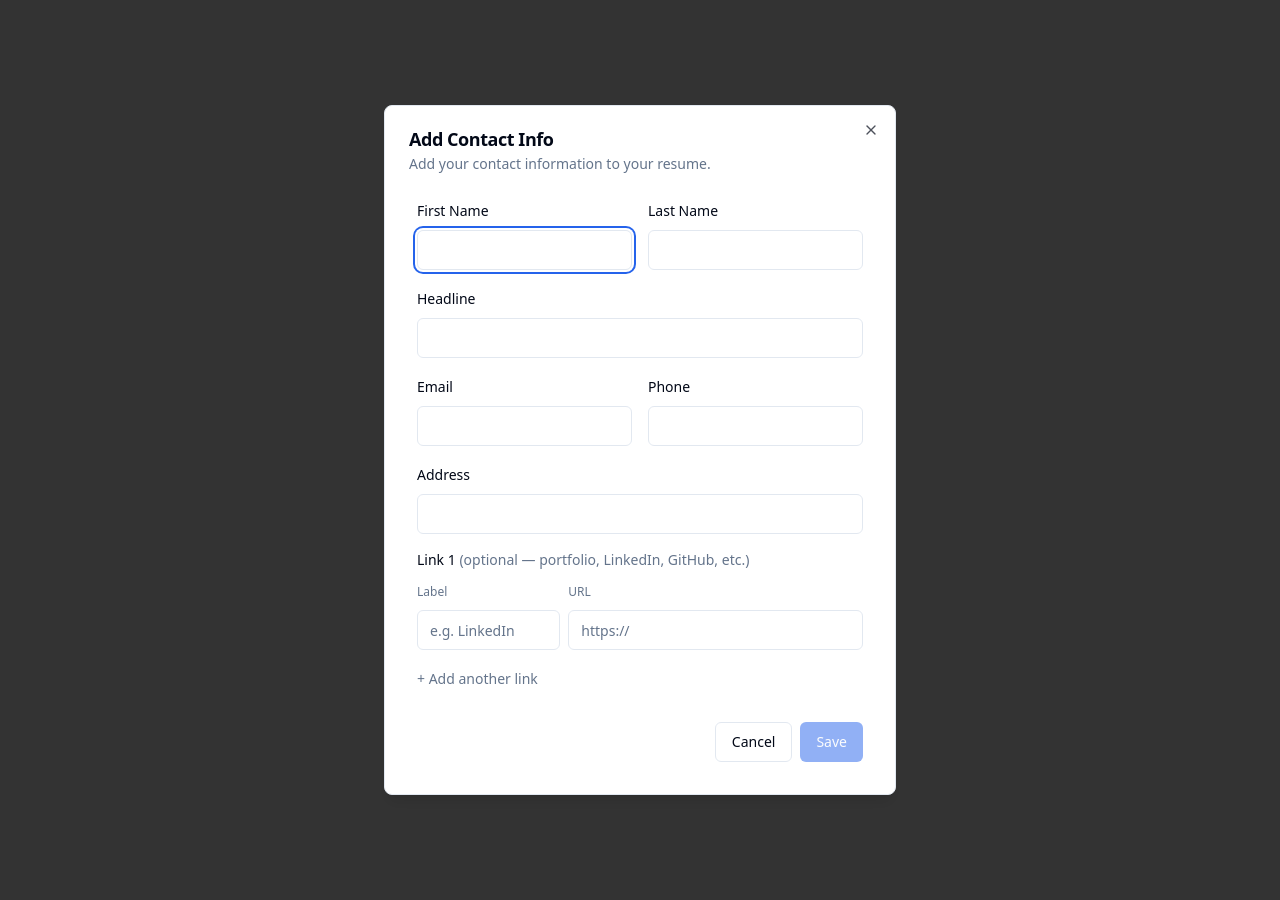
Test: AddContactInfo Component › second link › expands when the toggle is clicked
Click the button "+ Add another link" at (477, 679), box [417,669,538,689]
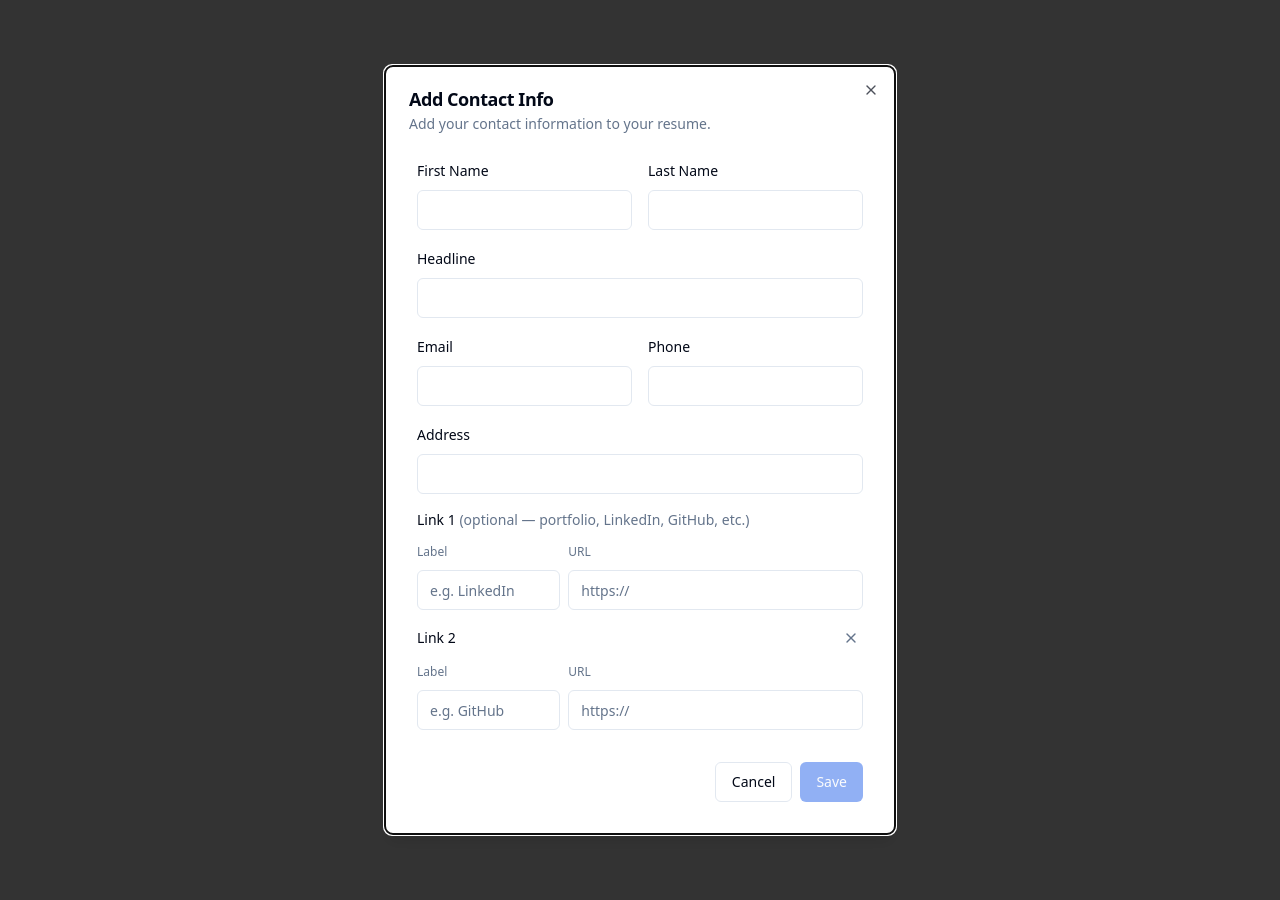
Expected: the text "Link 2" is shown, [417,628,456,648]
Expected: the button "+ Add another link" is gone
